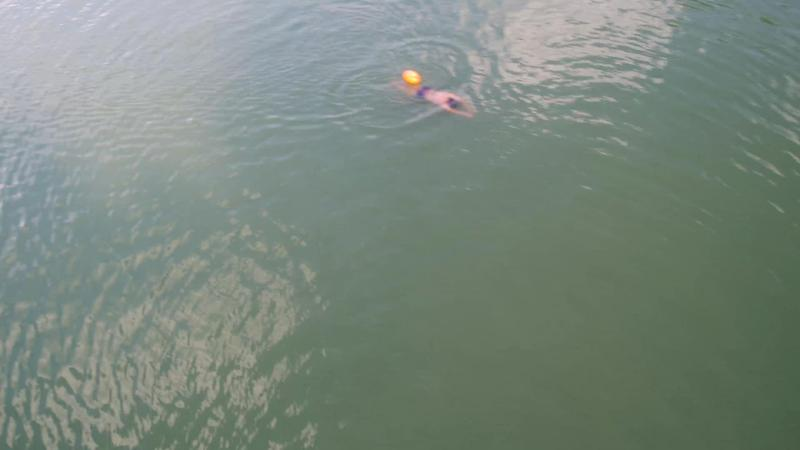swimmers: (381, 69, 479, 120)
